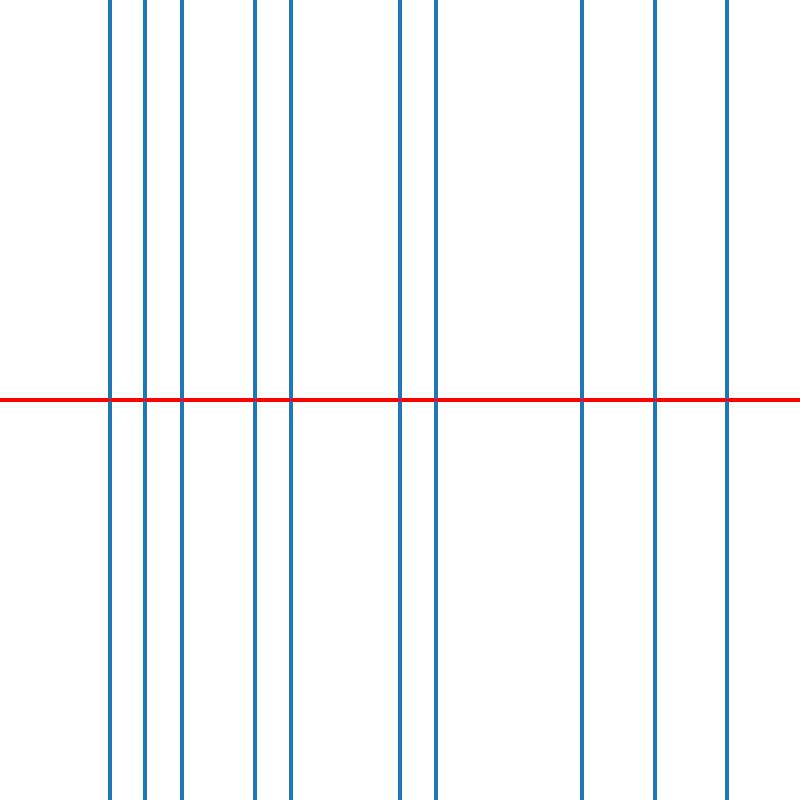root: (250, 396, 258, 404), (432, 396, 440, 404), (650, 396, 658, 404), (141, 396, 149, 404), (396, 396, 403, 404), (105, 396, 112, 404), (578, 396, 585, 404), (178, 396, 185, 404), (723, 396, 730, 404), (287, 396, 294, 404)
